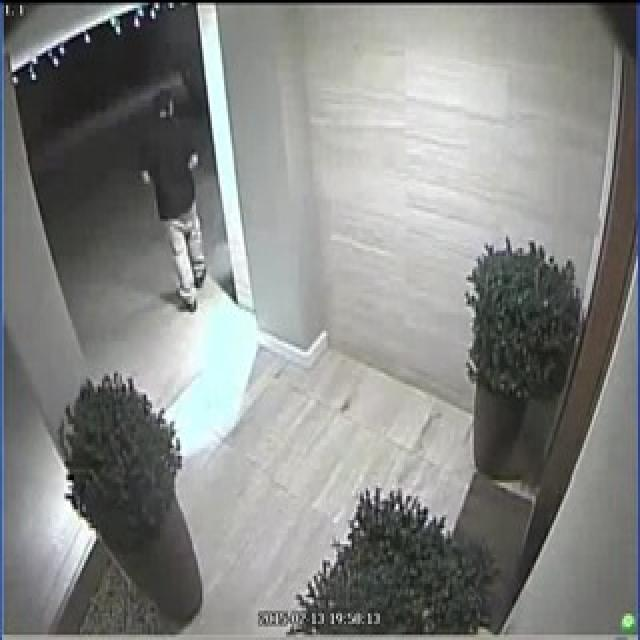thief: (132, 87, 217, 314)
